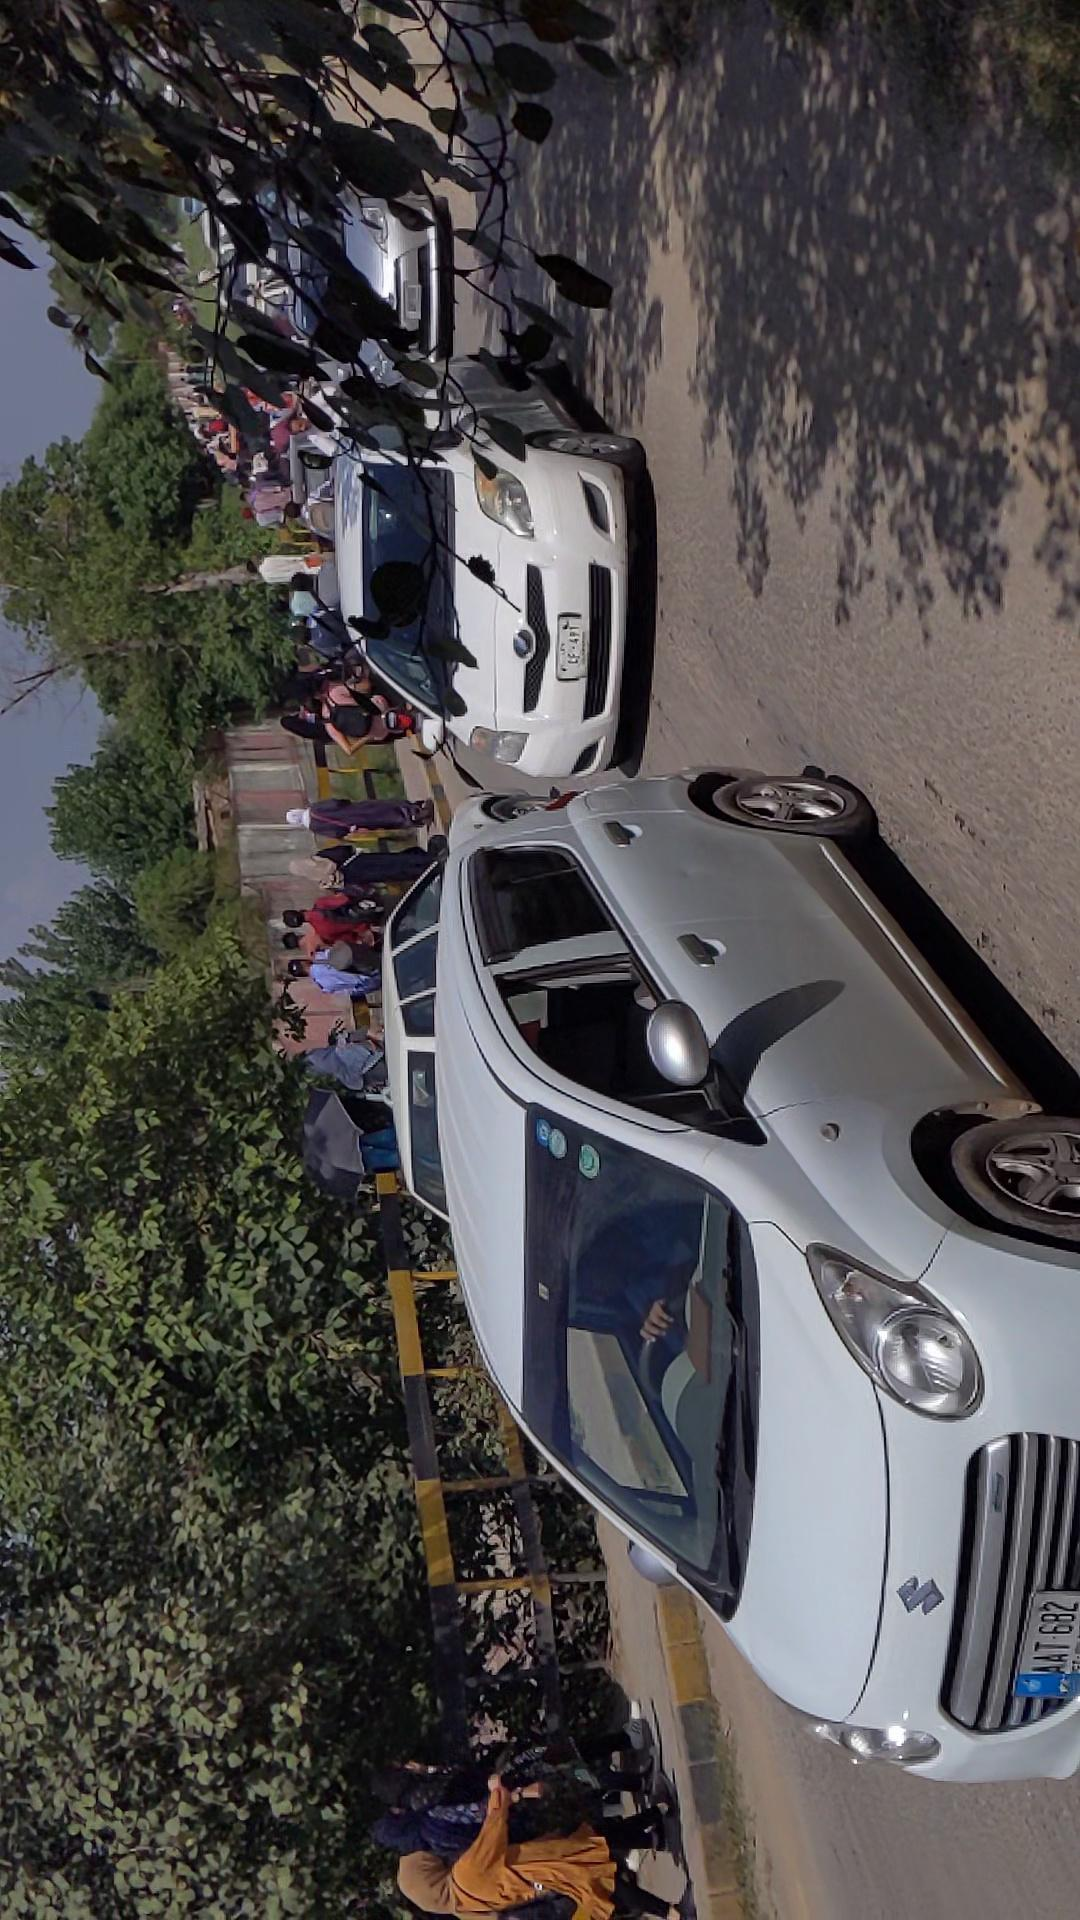windshield: (164, 901, 463, 1381)
